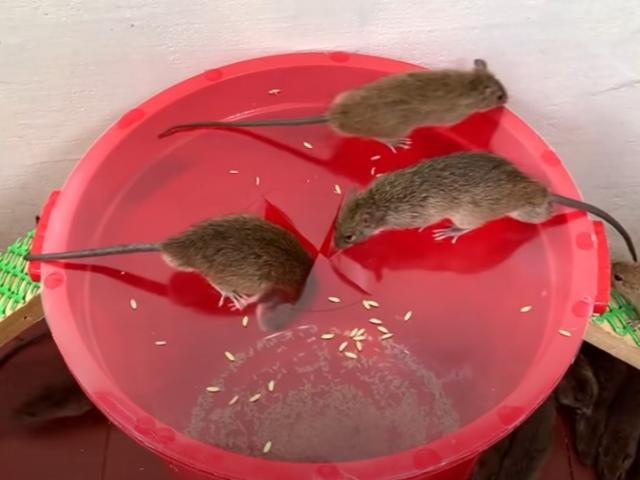Tikus: (27, 213, 314, 331), (158, 59, 508, 144)
